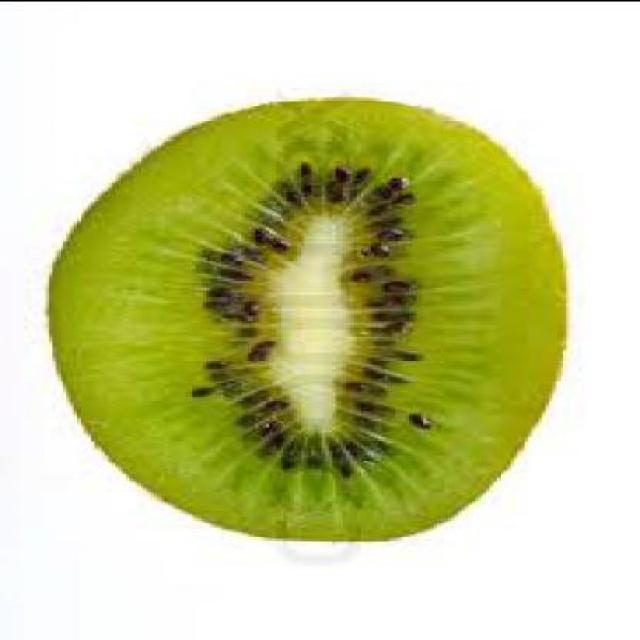BIODEGRADABLE: (50, 100, 565, 539)
